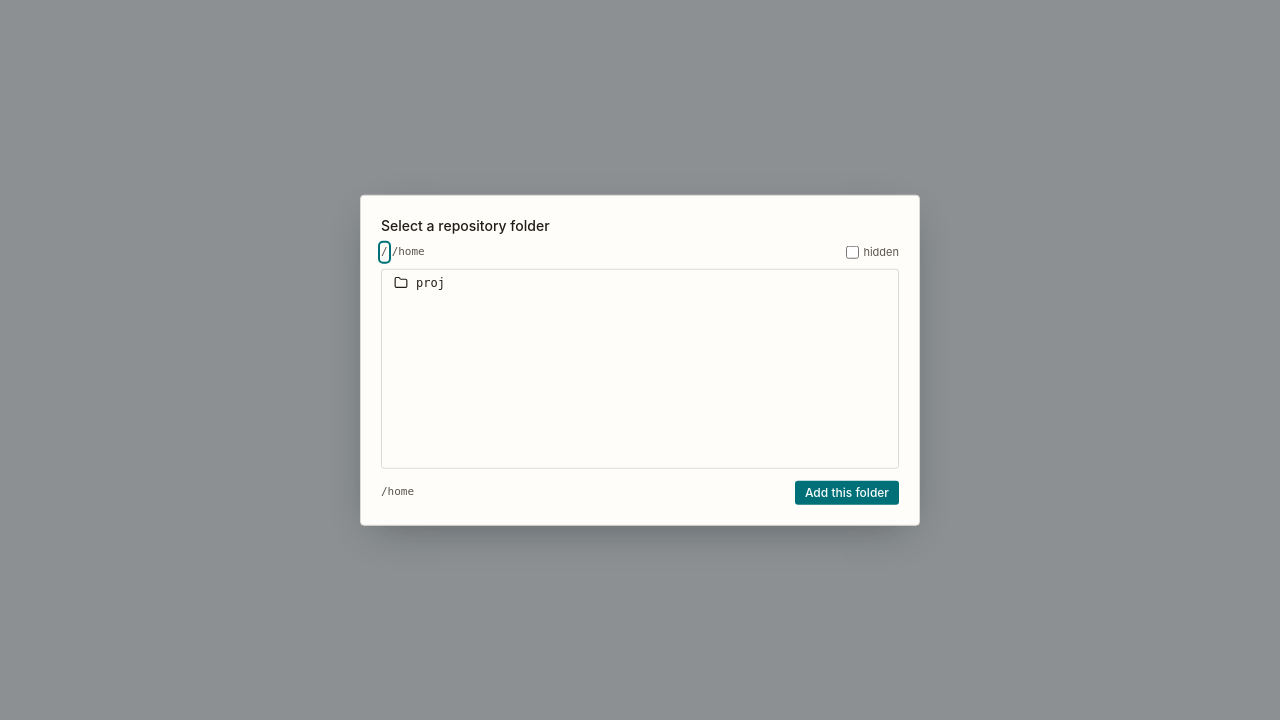
Test: renders entries and descends on click
What coordinates should you click on to do the following:
click the button "proj"
I would click on:
 (401, 282)
Its box is [382,269,898,295].
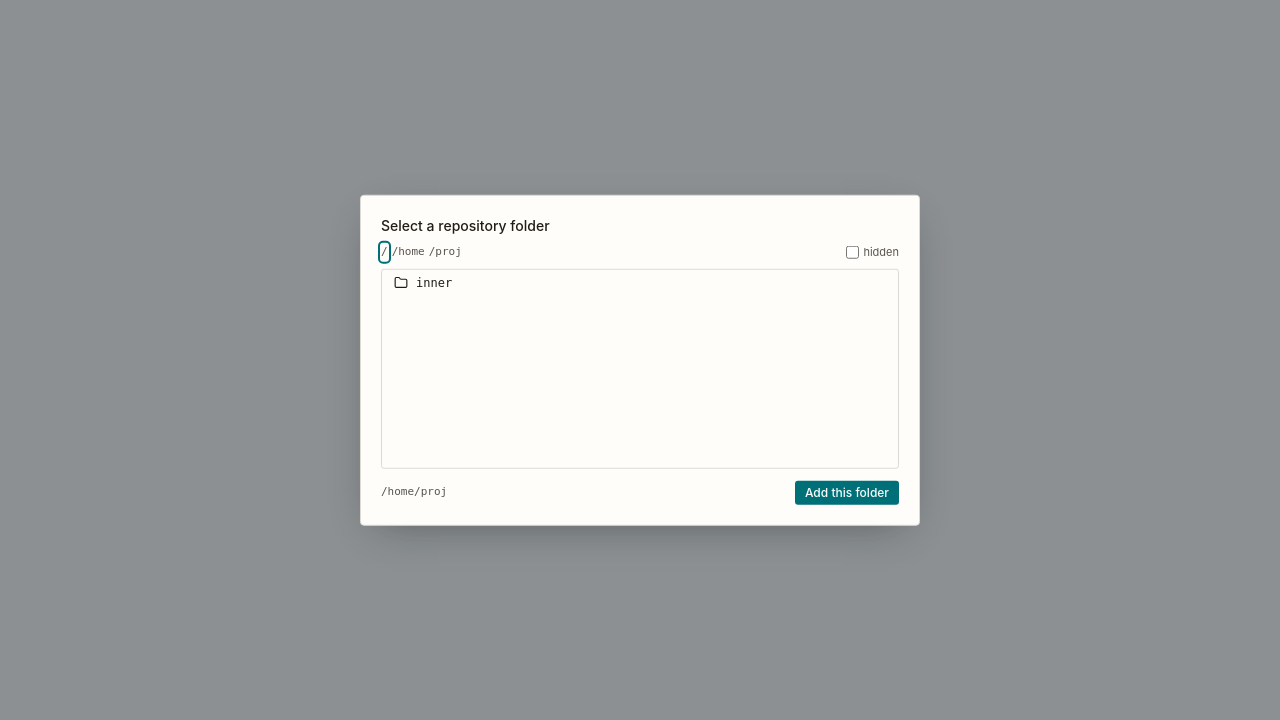
Check: the text "inner" is shown, box [416,273,452,291]
